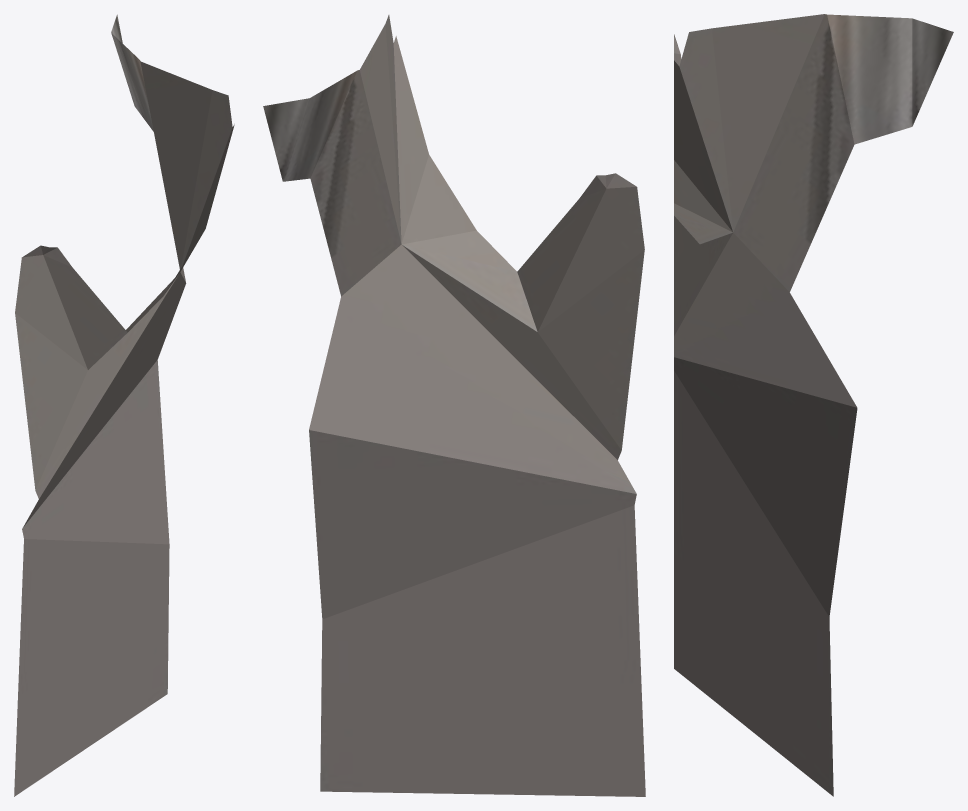
The picture shows the model from 3 angles, left to right: view 1: azimuth 30°, elevation 25°; view 2: azimuth 150°, elevation 25°; view 3: azimuth 270°, elevation 25°; orthographic projection. The views are drawn at different scales.
Bounding box in the file's own units: 1.06 × 2.95 × 0.9778.
Materials: 1 (1 with a texture image).
